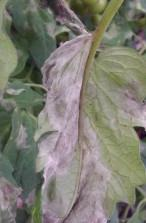Tomato leaf late blight: (24, 20, 146, 223)
